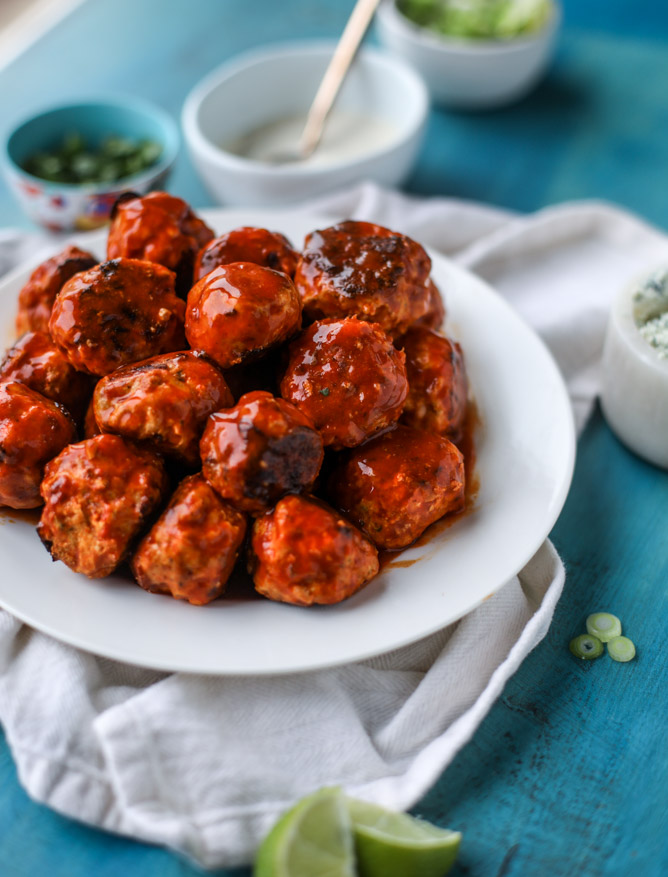meatballs: (27, 219, 449, 601)
